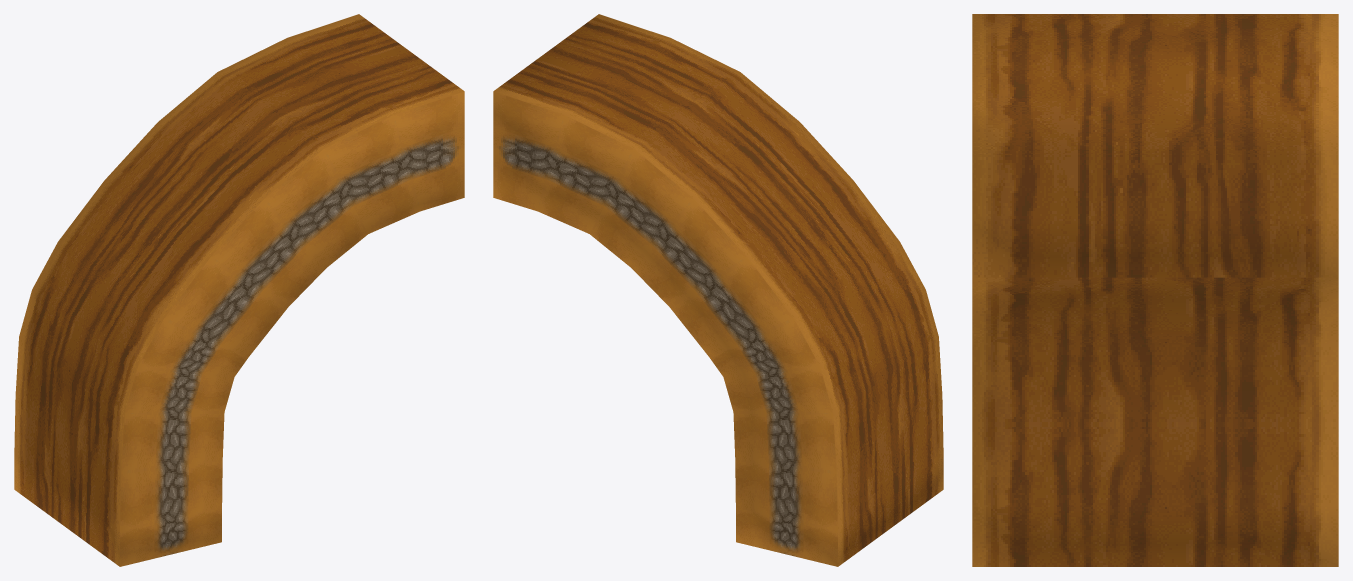
Rendered from SM_AP_CanyonWall_Bend_3.glb.
3 renders of one model, left to right at view 1: azimuth 30°, elevation 25°; view 2: azimuth 150°, elevation 25°; view 3: azimuth 270°, elevation 25°, orthographic. The views are drawn at different scales.
Parts seen in each view (by area): view 1: SM_AP_CanyonWall_Bend_3; view 2: SM_AP_CanyonWall_Bend_3; view 3: SM_AP_CanyonWall_Bend_3.
Part boxes in pixels (box(x1,y1,x2,y2)): SM_AP_CanyonWall_Bend_3: box(14, 14, 464, 566); SM_AP_CanyonWall_Bend_3: box(493, 14, 943, 566); SM_AP_CanyonWall_Bend_3: box(972, 14, 1338, 566).
Size of the model in its own units: 40.6 by 44.09 by 21.56.
Materials: 1 (1 with a texture image).
